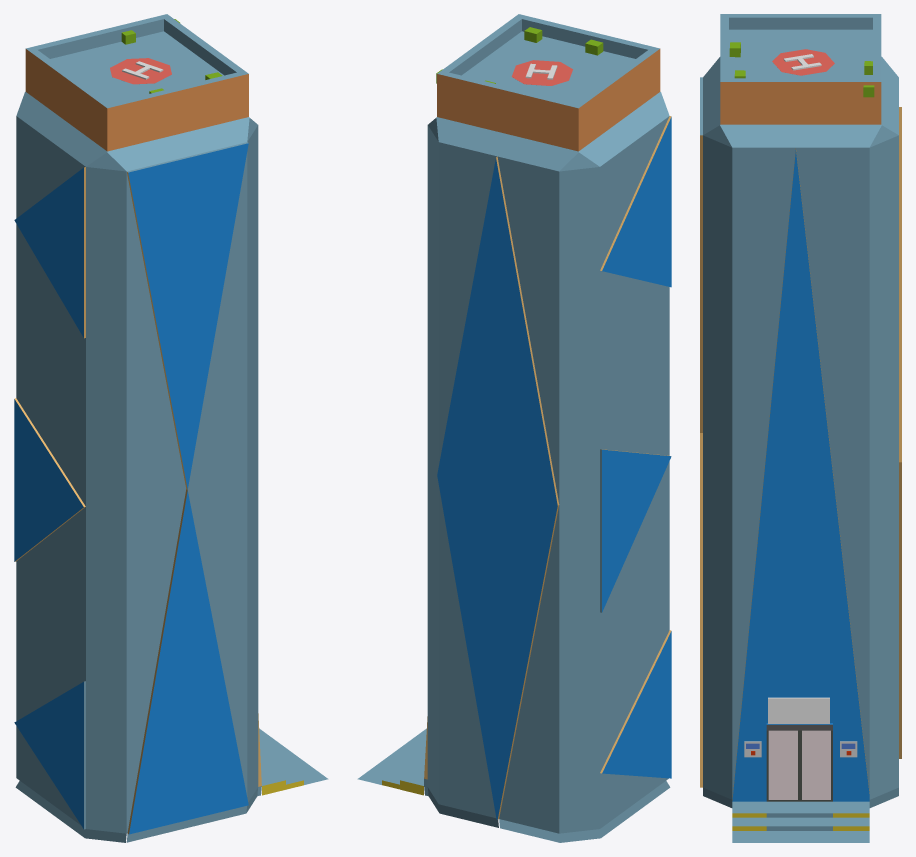
File: Building_19_tran.glb
The picture shows the model from 3 angles, left to right: view 1: azimuth 30°, elevation 25°; view 2: azimuth 150°, elevation 25°; view 3: azimuth 270°, elevation 25°; orthographic projection.
Visible parts, largest first — view 1: Plane.268, Plane.815; view 2: Plane.268, Plane.815; view 3: Plane.268, Cube.5837, Plane.815.
Part boxes in pixels (left/top/right/bottom): Plane.268: left=14, top=14, right=328, bottom=842; Plane.815: left=110, top=58, right=171, bottom=84; Plane.268: left=357, top=14, right=671, bottom=842; Plane.815: left=511, top=60, right=572, bottom=85; Plane.268: left=700, top=14, right=901, bottom=842; Cube.5837: left=768, top=697, right=829, bottom=723; Plane.815: left=772, top=49, right=834, bottom=75.
Bounding box in the file's own units: 0.2305 × 0.6578 × 0.1672.
